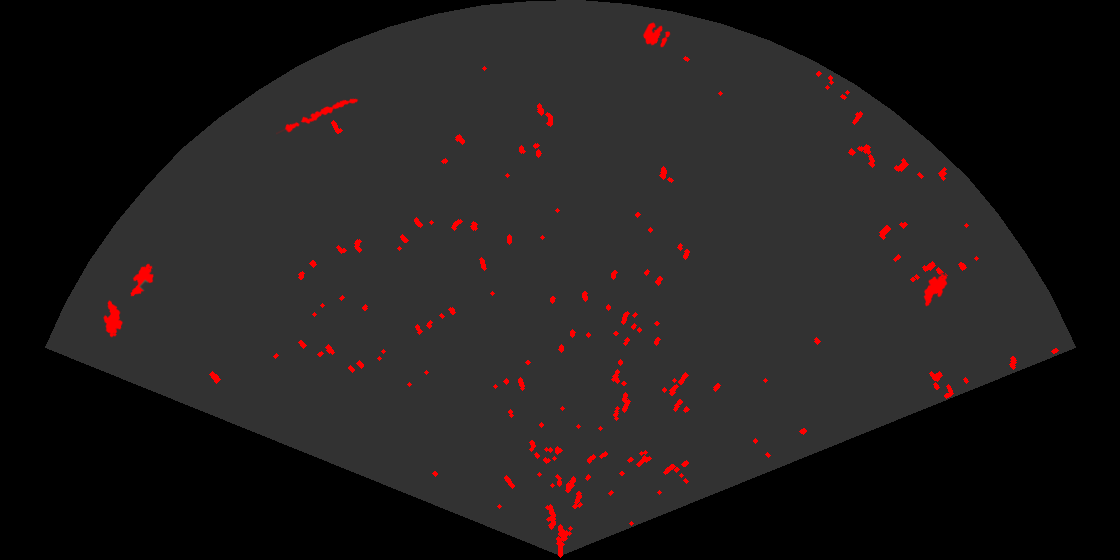AUV: (922, 272, 949, 308), (102, 298, 125, 339), (129, 262, 155, 298)
ball: (641, 20, 672, 49)
chain: (276, 97, 360, 136)
